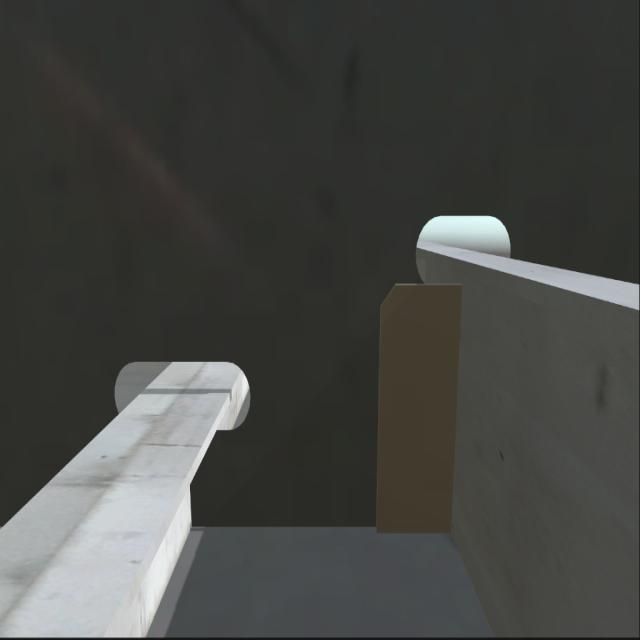fillet_yong_jeop_jang: (189, 516, 452, 536)
longi_yong_jeop_jang: (442, 279, 469, 535), (180, 470, 195, 530)
plate_CP03: (372, 279, 462, 537)
